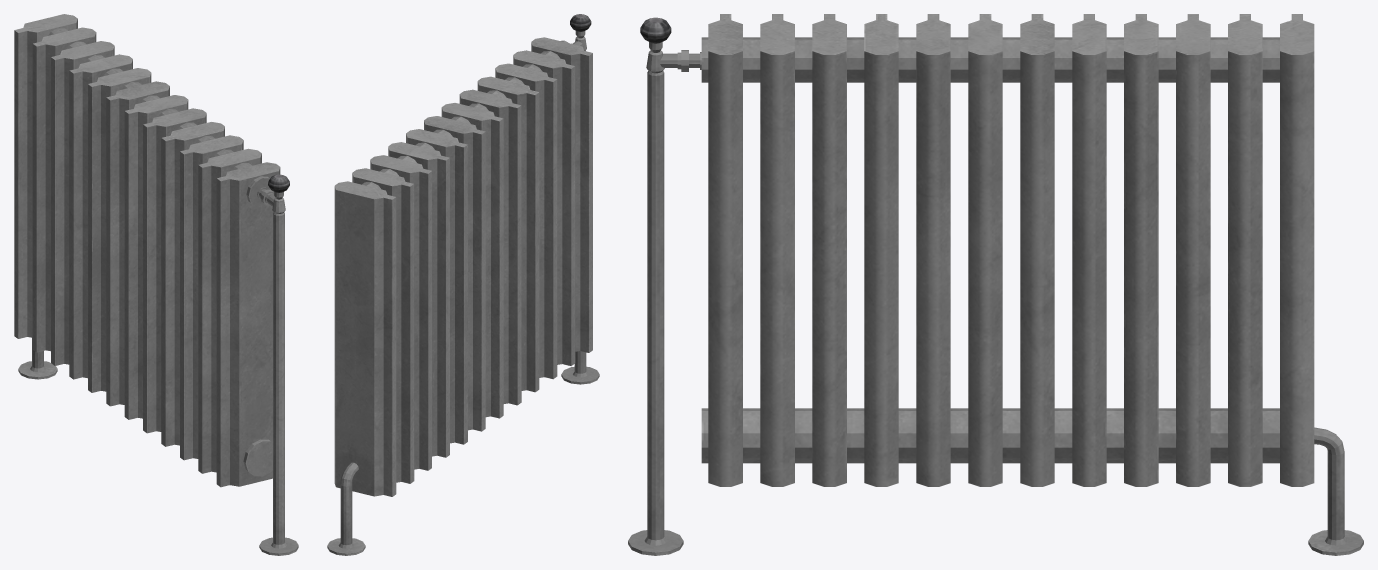
File: heater.glb
3 views of the same model, side by side, from view 1: azimuth 30°, elevation 25°; view 2: azimuth 150°, elevation 25°; view 3: azimuth 270°, elevation 25° (orthographic). The views are drawn at different scales.
Visible parts, largest first — view 1: HeaterPipe4136; view 2: HeaterPipe4136; view 3: HeaterPipe4136.
Part boxes in pixels (x1,y1,x2,y2): HeaterPipe4136: (14, 14, 298, 555); HeaterPipe4136: (327, 14, 599, 555); HeaterPipe4136: (628, 14, 1363, 555).
Bounding box in the file's own units: 4.58 × 27.25 × 34.69.
1 material, 1 textured.
